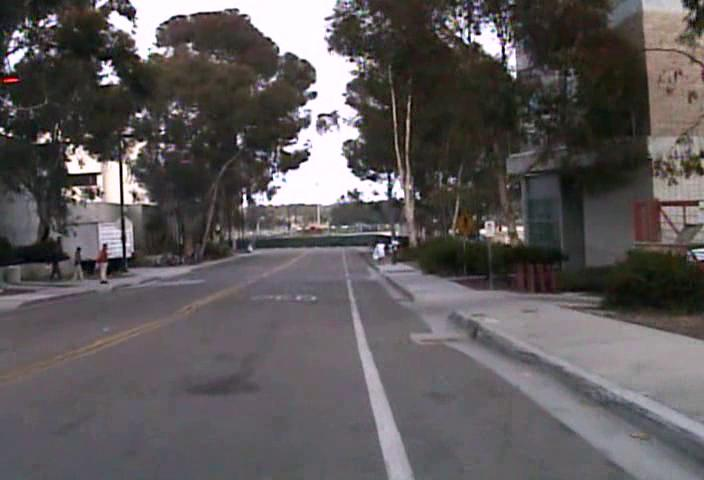pedestrianCrossing: (455, 209, 475, 237)
